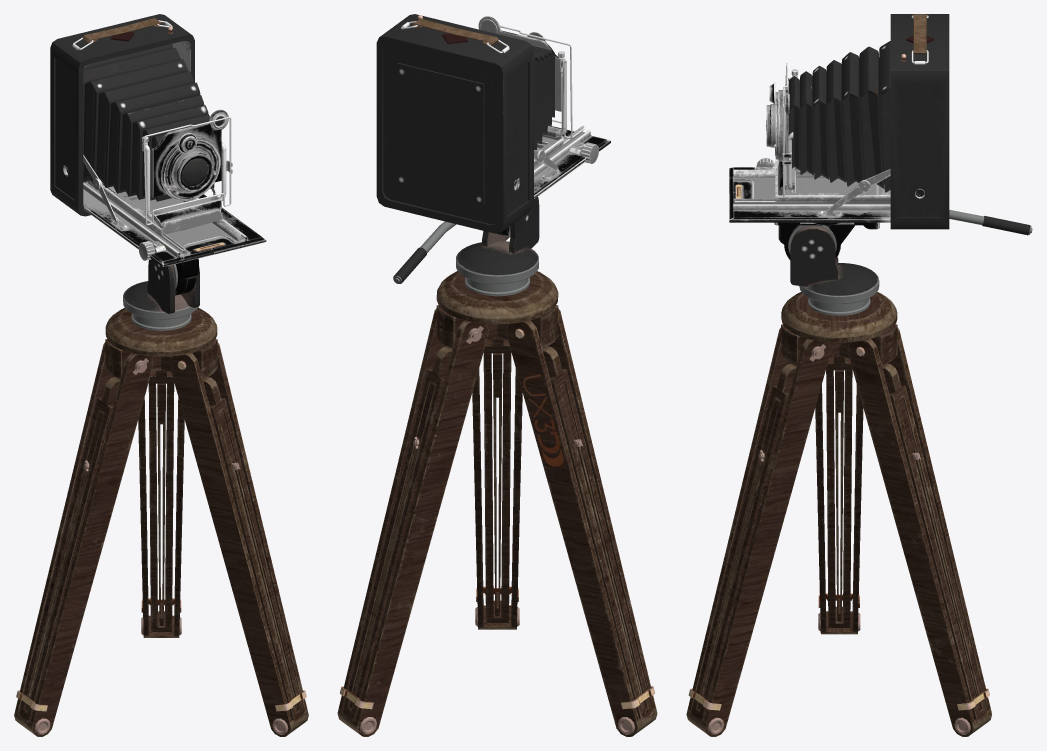
3 renders of one model, left to right at view 1: azimuth 30°, elevation 25°; view 2: azimuth 150°, elevation 25°; view 3: azimuth 270°, elevation 25°, orthographic. The views are drawn at different scales.
Visible parts, largest first — view 1: tripod, camera; view 2: tripod, camera; view 3: tripod, camera.
Part boxes in pixels (x1,y1,x2,y2): tripod: [14, 258, 308, 736]; camera: [50, 14, 266, 266]; tripod: [337, 196, 657, 736]; camera: [376, 14, 610, 233]; tripod: [686, 210, 1032, 736]; camera: [729, 14, 949, 229].
Size of the model in its own units: 2.6 by 7.21 by 3.39.
2 materials, 2 textured.
